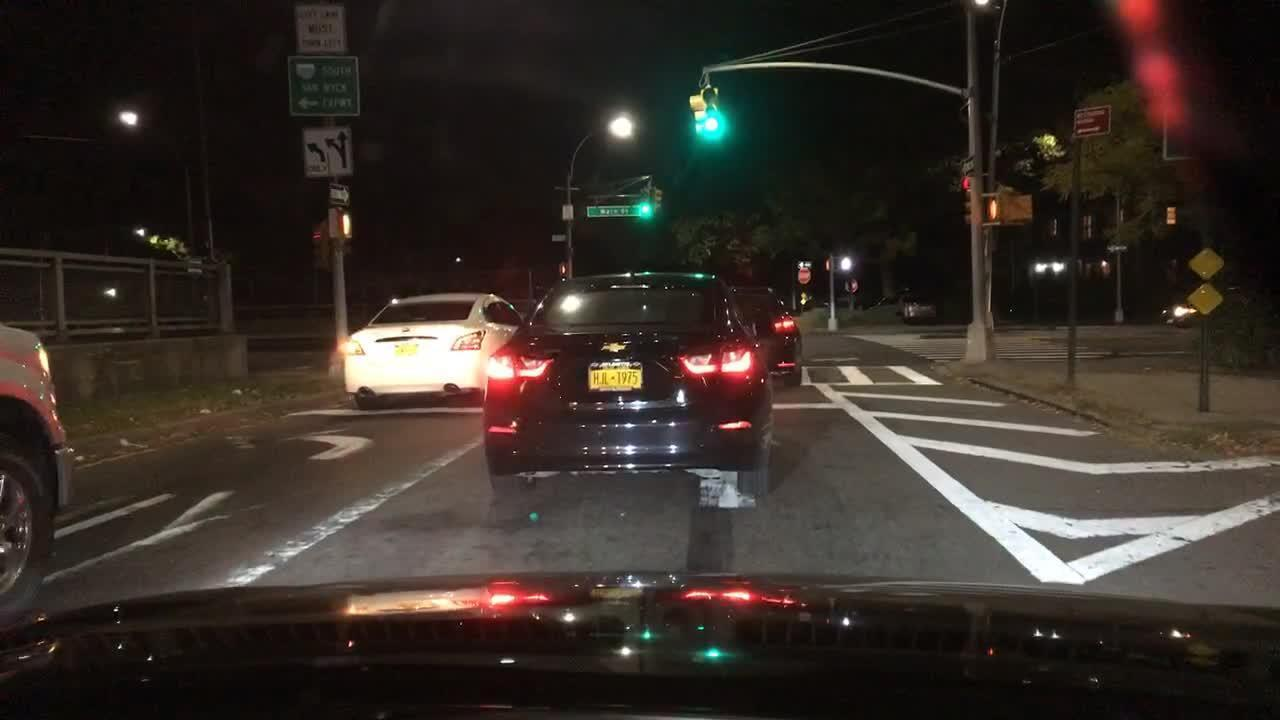chevrolet: (593, 336, 641, 364)
